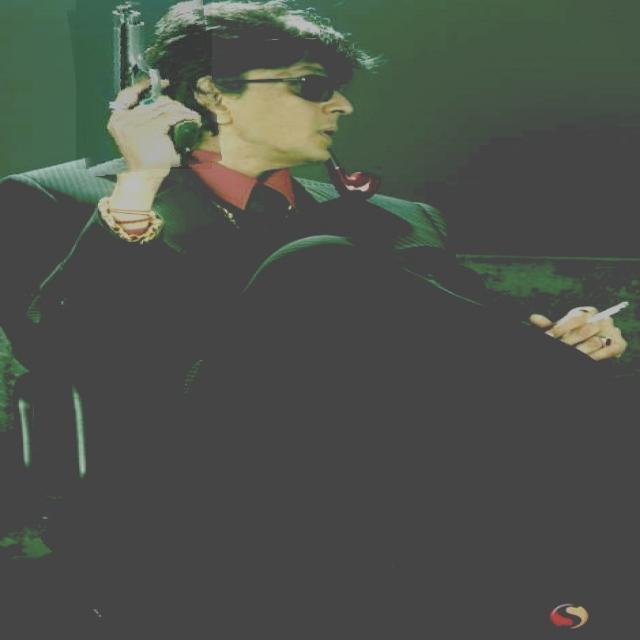handgun: (71, 0, 217, 172)
